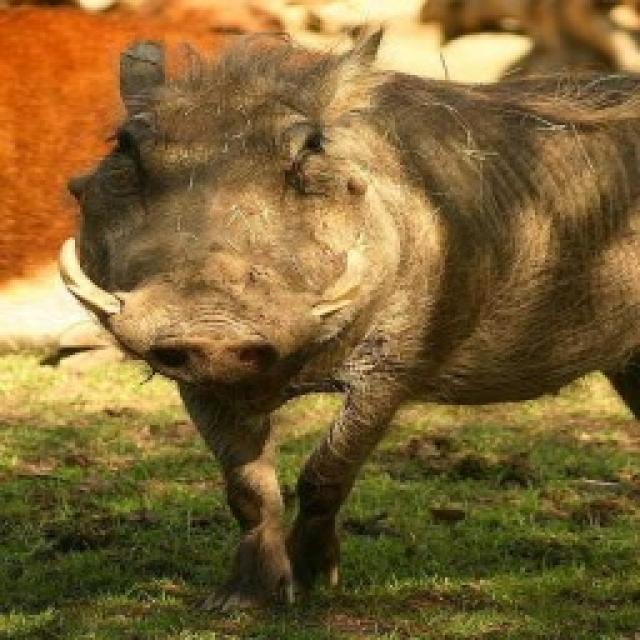pig: (55, 20, 637, 615)
